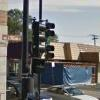Traffic light: (22, 10, 57, 70)
